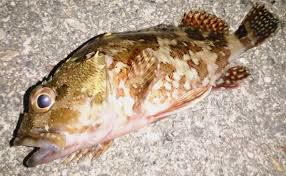saba: (11, 4, 277, 172)
